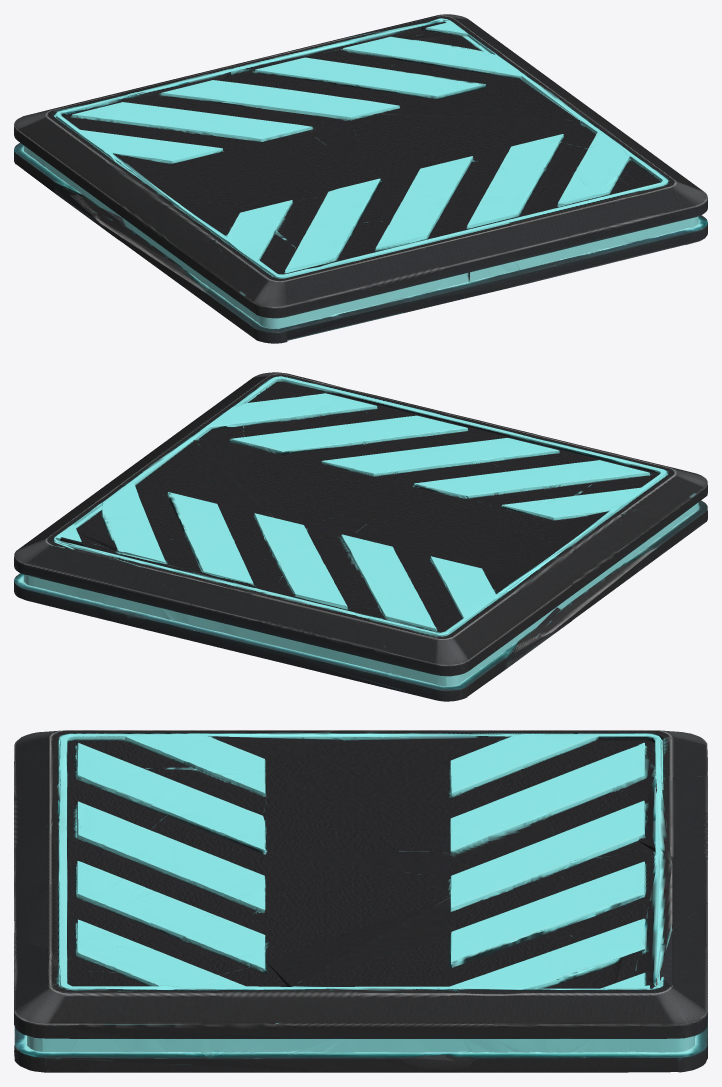
File: jump-pad-raw.glb
The picture shows the model from 3 angles, top to bottom: view 1: azimuth 30°, elevation 25°; view 2: azimuth 150°, elevation 25°; view 3: azimuth 270°, elevation 25°; orthographic projection. The views are drawn at different scales.
Parts seen in each view (by area): view 1: Mesh_0; view 2: Mesh_0; view 3: Mesh_0.
Boxes of the visible parts, x1,y1,x2,y2 form: Mesh_0: (14,14,707,343); Mesh_0: (14,372,707,701); Mesh_0: (14,730,707,1072).
Size of the model in its own units: 1.9 by 0.1992 by 1.9.
Materials: 1 (1 with a texture image).
